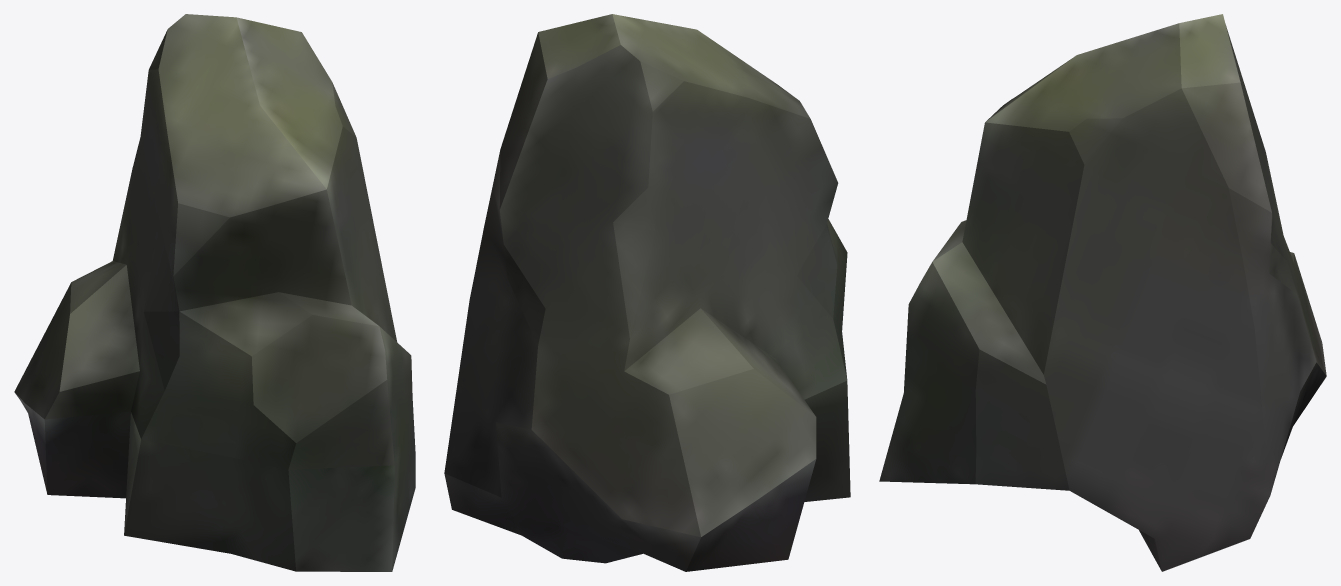
The model's file is rocks-2.glb.
3 renders of one model, left to right at view 1: azimuth 30°, elevation 25°; view 2: azimuth 150°, elevation 25°; view 3: azimuth 270°, elevation 25°, orthographic. The views are drawn at different scales.
Parts seen in each view (by area): view 1: Rock_1; view 2: Rock_1; view 3: Rock_1.
Part boxes in pixels (left/top/right/bottom): Rock_1: left=14, top=14, right=415, bottom=571; Rock_1: left=444, top=14, right=850, bottom=571; Rock_1: left=879, top=14, right=1326, bottom=571.
Size of the model in its own units: 0.7107 by 1.08 by 0.8874.
Materials: 1 (1 with a texture image).
